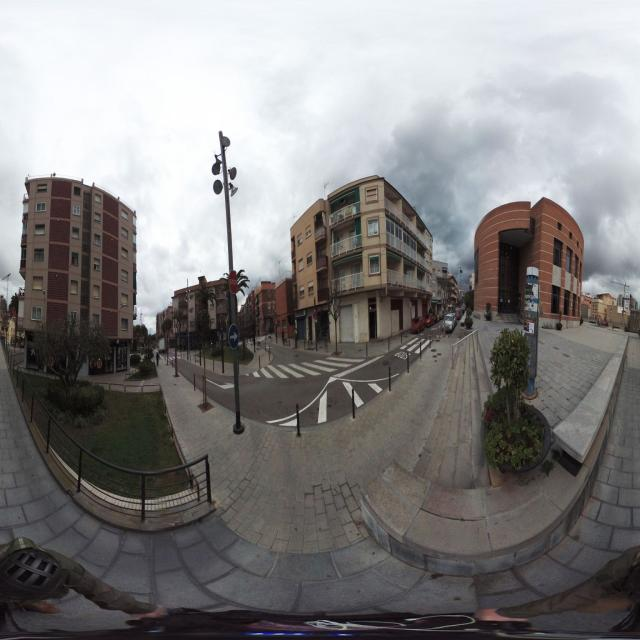car: (444, 314, 454, 334)
